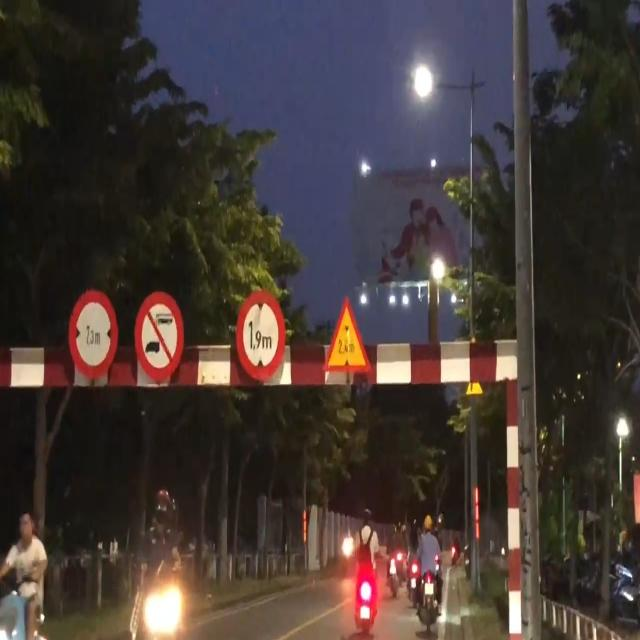Bien bao cam xe oto khach va xe oto tai: (134, 284, 186, 384)
Bien bao chieu cao tinh khong thuc te: (320, 284, 374, 385)
Bien bao han che chieu cao: (232, 278, 288, 391)
